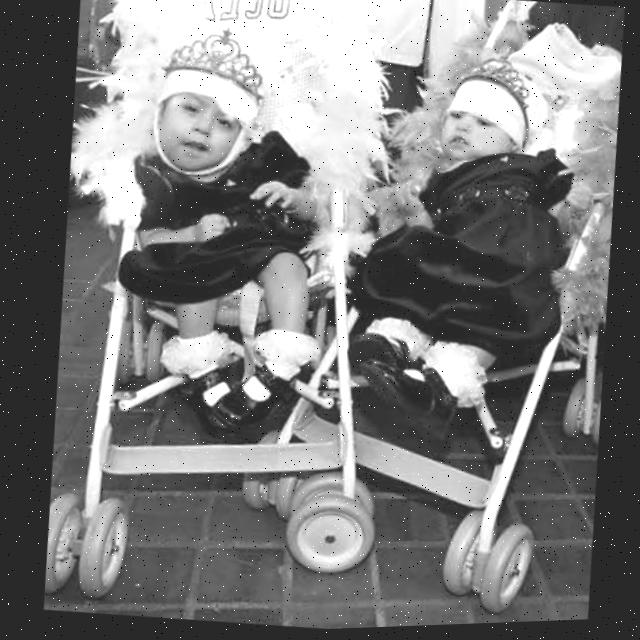face: (136, 63, 253, 201), (425, 65, 533, 192)
